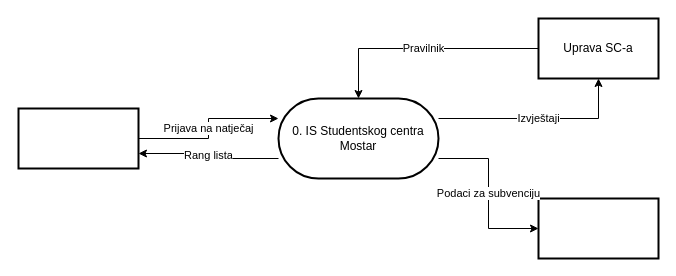
This 676x276 diagram has some shape labels left out. The box of each missing label's shape, as (x1, y1, x2, y2) in pixels:
Student: (17, 107, 139, 169)
Sustav X-ica: (537, 197, 659, 259)
